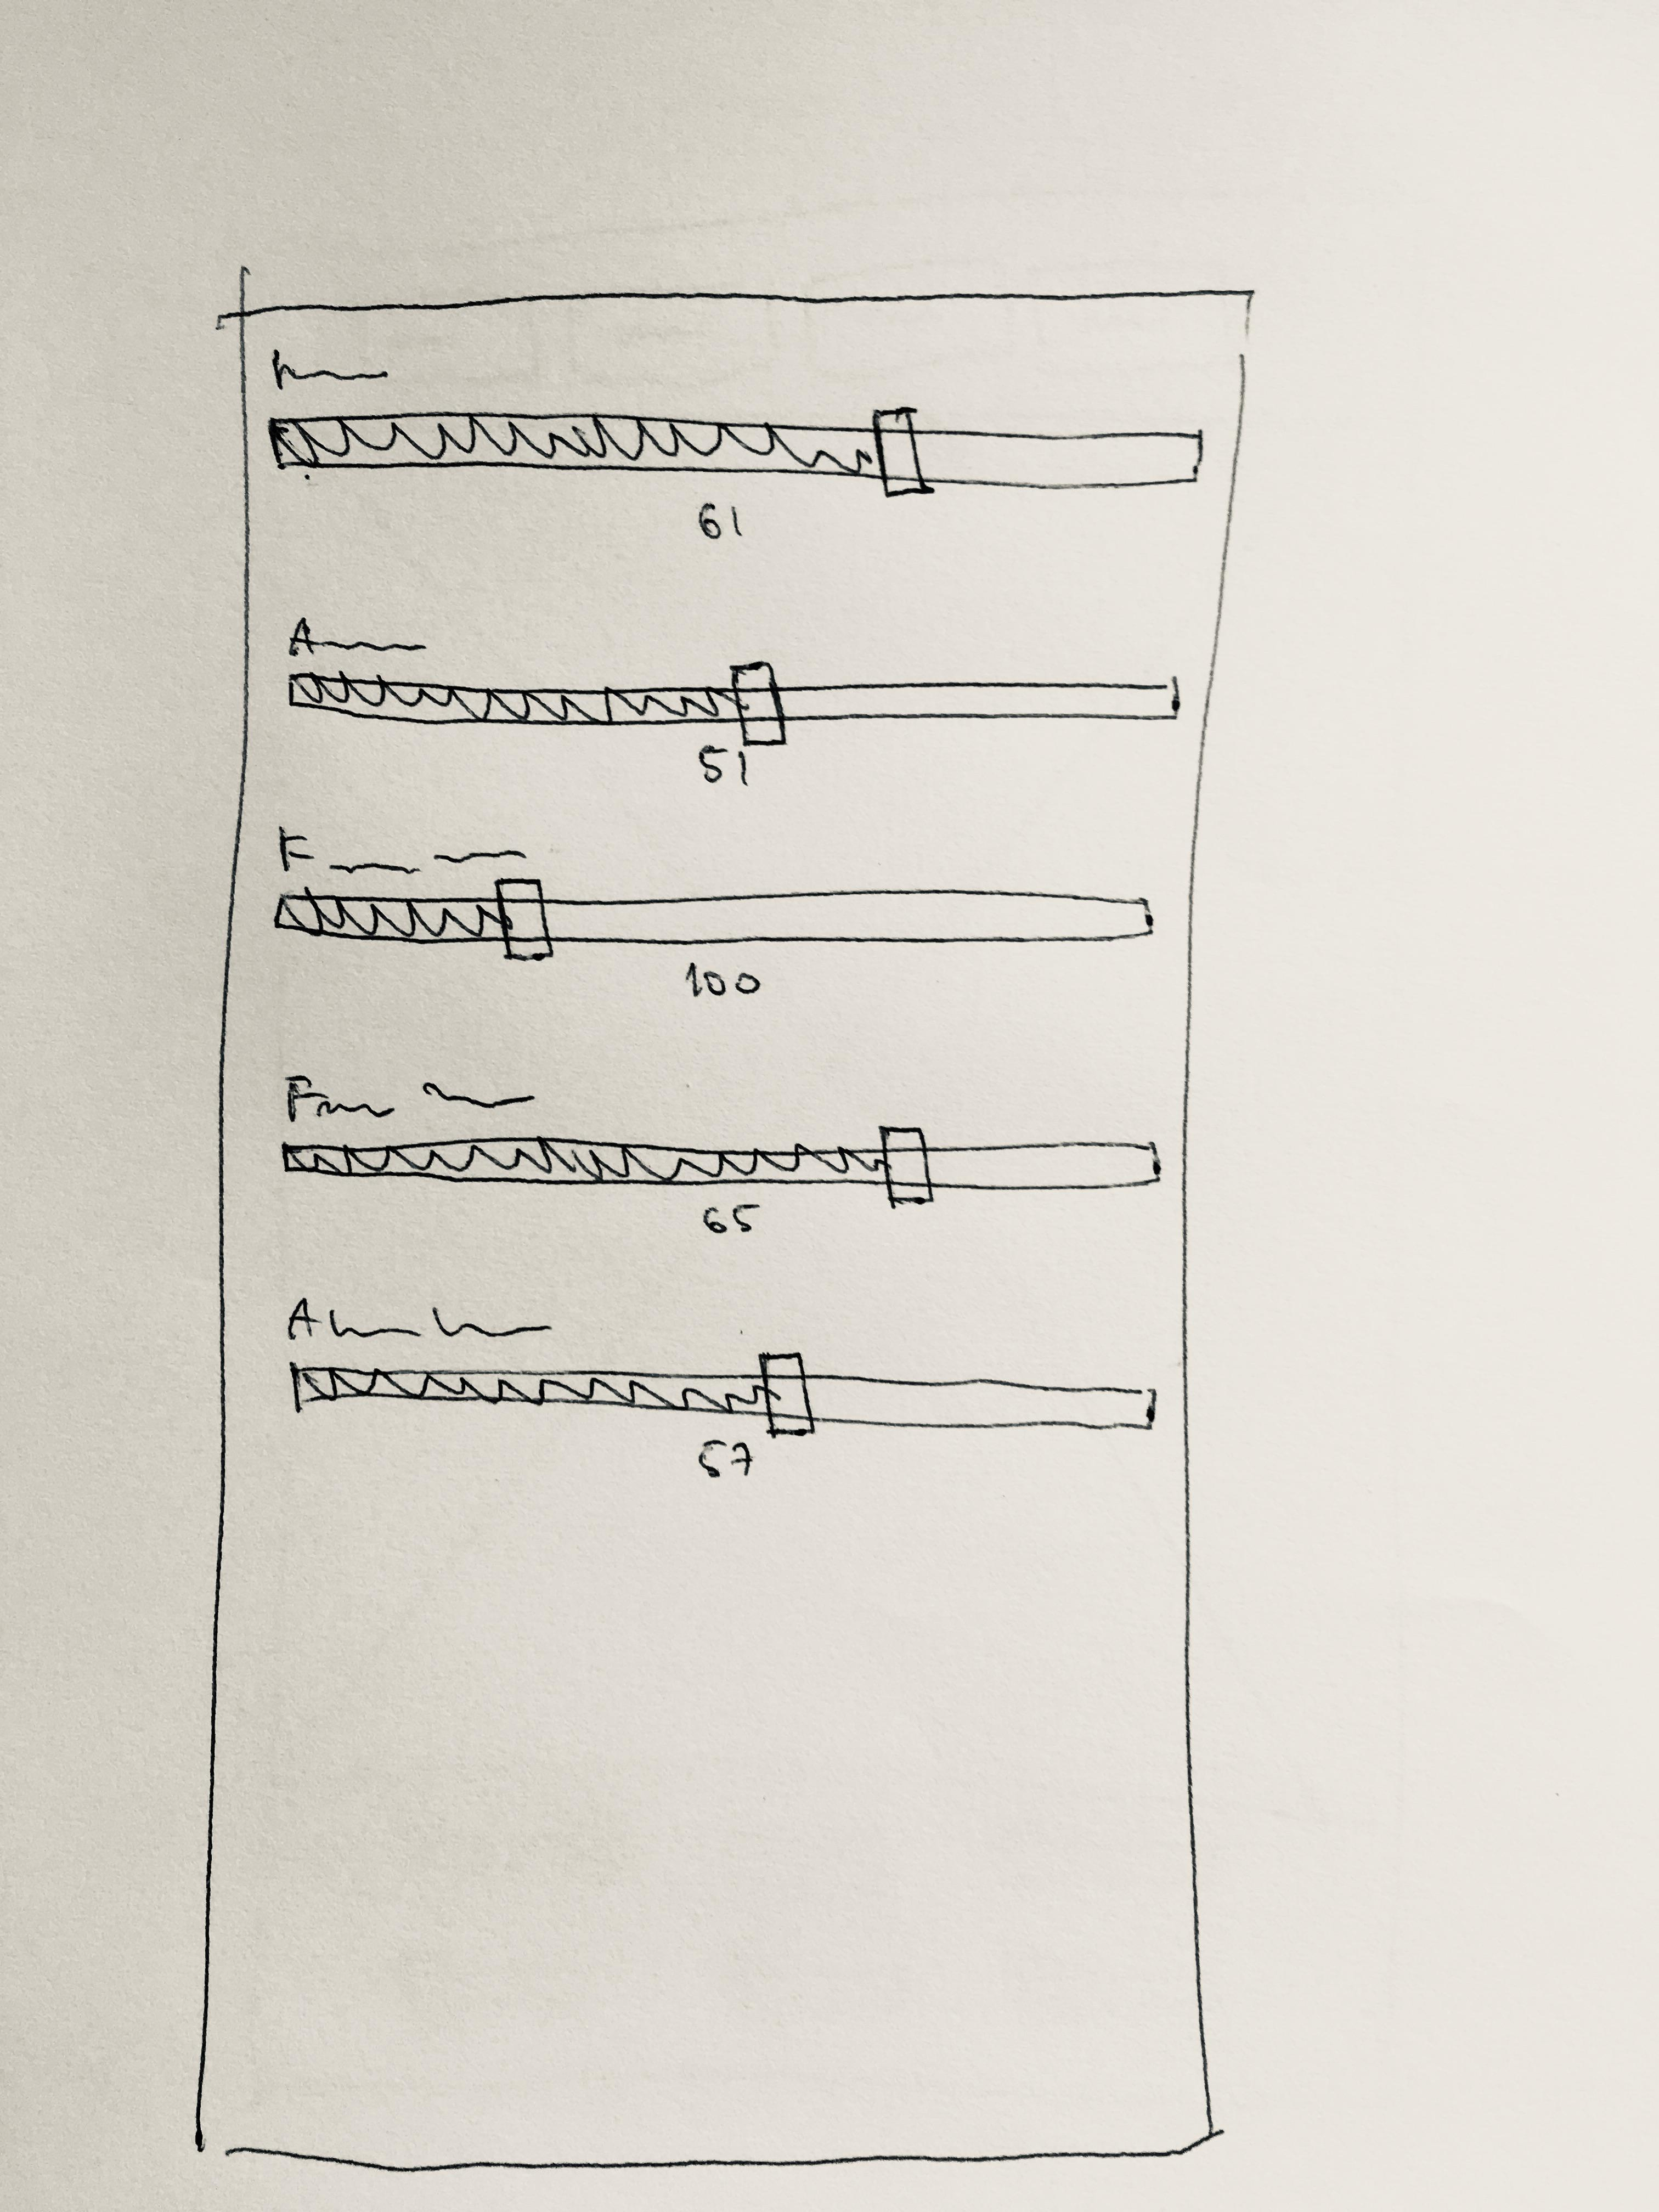Label: (279, 826, 526, 874), (286, 1075, 533, 1122), (286, 1299, 552, 1343), (270, 347, 390, 392), (286, 618, 429, 655), (701, 1200, 762, 1240), (697, 1440, 755, 1480), (687, 965, 758, 996), (699, 745, 748, 787), (697, 502, 744, 540)
Screen: (195, 287, 1255, 2172)
Slider: (268, 411, 1206, 496), (289, 662, 1182, 747), (275, 878, 1154, 961), (289, 1353, 1155, 1435), (284, 1127, 1159, 1204)
